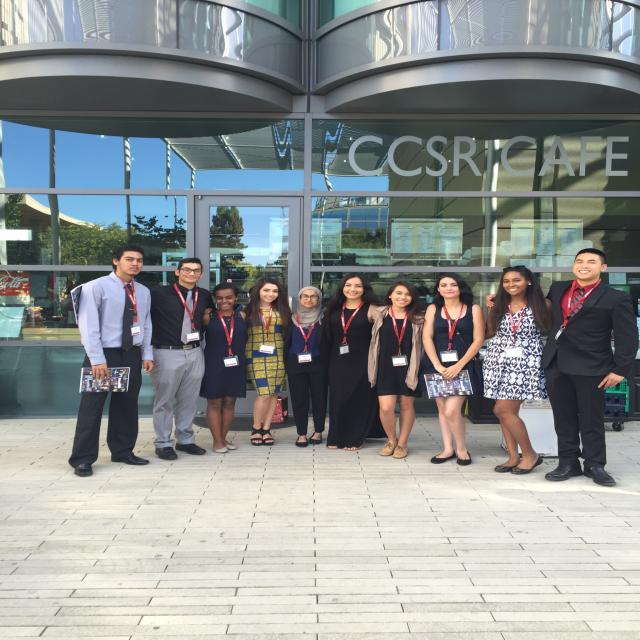body: (484, 247, 640, 487), (67, 245, 154, 478), (479, 265, 555, 476), (147, 257, 221, 461), (421, 273, 487, 467), (322, 271, 383, 452), (366, 280, 425, 460), (242, 277, 294, 446), (203, 283, 247, 453), (282, 286, 328, 448), (235, 288, 260, 314)
